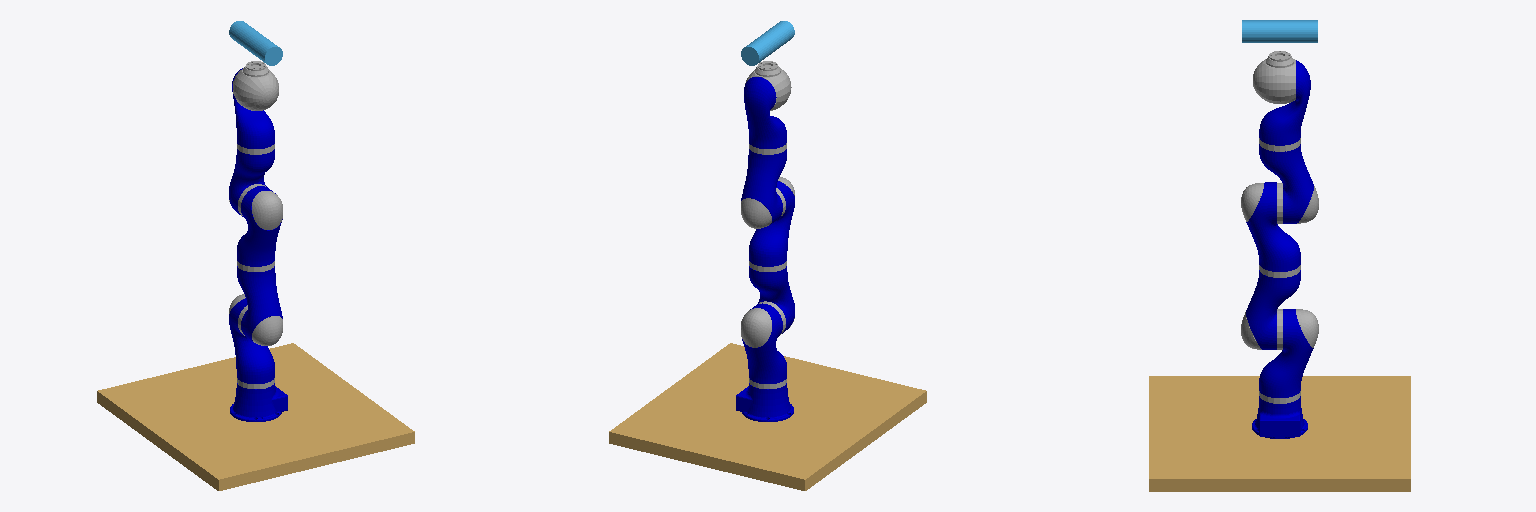
The robot description file, URDF, robot "lwr":
<?xml version="1.0" ?>
<!-- =================================================================================== -->
<!-- |    This document was autogenerated by xacro from lwr.urdf.xacro                 | -->
<!-- |    EDITING THIS FILE BY HAND IS NOT RECOMMENDED                                 | -->
<!-- =================================================================================== -->
<robot name="lwr" xmlns:controller="http://playerstage.sourceforge.net/gazebo/xmlschema/#controller" xmlns:interface="http://playerstage.sourceforge.net/gazebo/xmlschema/#interface" xmlns:sensor="http://playerstage.sourceforge.net/gazebo/xmlschema/#sensor" xmlns:xacro="http://www.ros.org/wiki/xacro">
  <gazebo>
    <plugin filename="librtt_gazebo_plugin.so" name="rtt_gazebo">
      <opsScript>
        import(&quot;rtt_ros&quot;);
        ros.import(&quot;rtt_roscomm&quot;);
        ros.import(&quot;rtt_rosparam&quot;);
        ros.import(&quot;rtt_sensor_msgs&quot;);
        ros.import(&quot;lwr_simulation&quot;);
        ros.import(&quot;oro_joint_state_publisher&quot;);
        
        loadComponent(&quot;FRI&quot;,&quot;LWRController&quot;);
        loadComponent(&quot;joints&quot;,&quot;JointStatePublisher&quot;);
        
        loadService(&quot;FRI&quot;,&quot;rosparam&quot;);
        loadService(&quot;joints&quot;,&quot;rosparam&quot;);
        
        setActivity(&quot;FRI&quot;, 0.0, 5, ORO_SCHED_RT);
        setActivity(&quot;joints&quot;, 0.02, 5, ORO_SCHED_RT);
        
        connect(&quot;FRI.JointPosition&quot;,&quot;joints.msrJntPos&quot;, ConnPolicy());
        stream(&quot;joints.joints_state&quot;, rostopic.connection(&quot;/joints_state&quot;));
        
        joints.rosparam.refreshProperties();
        joints.configure();
        joints.start();
      </opsScript>
      <component>FRI</component>
    </plugin>
  </gazebo>
  <material name="DarkGrey">
    <color rgba="0.3 0.3 0.3 1.0"/>
  </material>
  <material name="Red">
    <color rgba="0.3 0.3 0.3 1.0"/>
  </material>
  <material name="Black">
    <color rgba="0 0 0 1.0"/>
  </material>
  <material name="Orange">
    <color rgba="1.0 0.487 0 1.0"/>
  </material>
  <material name="Silver">
    <color rgba="1.0 1.0 1.0 1.0"/>
  </material>
  <material name="Grey">
    <color rgba="0.7 0.7 0.7 1.0"/>
  </material>
  <material name="Blue">
    <color rgba="0.0 0.0 0.8 1.0"/>
  </material>
  <material name="HandGray">
    <color rgba="0.953 0.996 0.694 1.0"/>
  </material>
  <material name="SickBlue">
    <color rgba="0.3058 0.5921 0.7294 1.0"/>
  </material>
  <link name="table">
    <visual>
      <origin rpy="0 0 0" xyz="0 0 -0.02"/>
      <geometry>
        <box size="0.7 0.75 0.04"/>
      </geometry>
      <material name="table_brown">
        <!-- wooden brown table -->
        <color rgba="0.839215686 0.694117647 0.42745098 1.0"/>
      </material>
    </visual>
    <collision>
      <origin rpy="0 0 0" xyz="0 0 -0.02"/>
      <geometry>
        <box size="0.7 0.75 0.04"/>
      </geometry>
    </collision>
  </link>
  <gazebo reference="table">
    <!-- Gazebo wood texture -->
    <material>Gazebo/Wood</material>
  </gazebo>
  <joint name="table_lwr_arm_base_joint" type="fixed">
    <origin rpy="0 0 0" xyz="0 0 0"/>
    <parent link="table"/>
    <child link="base"/>
  </joint>
  <link name="base">
    <inertial>
      <mass value="2.0"/>
      <origin xyz="0 0 0.055"/>
      <inertia ixx="0.00381666666667" ixy="0" ixz="0" iyy="0.0036" iyz="0" izz="0.00381666666667"/>
    </inertial>
    <visual>
      <origin rpy="0 0 3.14159265359" xyz="0 0 0"/>
      <geometry>
        <mesh filename="package://kuka_lwr4_description/meshes/kuka_colour/base.dae"/>
      </geometry>
      <material name="Blue"/>
    </visual>
    <collision>
      <origin rpy="0 0 0" xyz="0.04 0 0.03"/>
      <geometry>
        <box size="0.08 0.12 0.06"/>
      </geometry>
    </collision>
    <collision>
      <origin rpy="0 0 0" xyz="0 0 0.05"/>
      <geometry>
        <cylinder length="0.1" radius="0.06"/>
      </geometry>
    </collision>
  </link>
  <gazebo reference="calib_lwr_arm_base_link">
    <turnGravityOff>true</turnGravityOff>
  </gazebo>
  <joint name="lwr_arm_0_joint" type="revolute">
    <origin rpy="0 0 3.14159265359" xyz="0 0 0.11"/>
    <axis xyz="0 0 1"/>
    <limit effort="176" lower="-2.96705972839" upper="2.96705972839" velocity="1.91986217719"/>
    <safety_controller k_position="30" k_velocity="30" soft_lower_limit="-2.93215314335" soft_upper_limit="2.93215314335"/>
    <dynamics damping="1.0"/>
    <parent link="base"/>
    <child link="lwr_arm_1_link"/>
  </joint>
  <link name="lwr_arm_1_link">
    <inertial>
      <mass value="2.0"/>
      <origin rpy="0 0 0" xyz="0 -0.06 0.130"/>
      <inertia ixx="0.0136666666667" ixy="0" ixz="0" iyy="0.003" iyz="0" izz="0.0118666666667"/>
    </inertial>
    <visual>
      <origin rpy="0 0 4.71238898038" xyz="0 0 0.2"/>
      <geometry>
        <mesh filename="package://kuka_lwr4_description/meshes/kuka_colour/link1.dae"/>
      </geometry>
      <material name="Blue"/>
    </visual>
    <visual>
      <origin rpy="0 0 4.71238898038" xyz="0 0 0.2"/>
      <geometry>
        <mesh filename="package://kuka_lwr4_description/meshes/kuka_colour/link1_m.dae"/>
      </geometry>
      <material name="Grey"/>
    </visual>
    <visual>
      <origin rpy="0 0 0" xyz="0 0 0"/>
      <geometry>
        <mesh filename="package://kuka_lwr4_description/meshes/kuka_colour/kuka_ring.dae"/>
      </geometry>
      <material name="Grey"/>
    </visual>
    <collision>
      <origin rpy="0 0 0" xyz="0 0 0.05"/>
      <geometry>
        <cylinder length="0.1" radius="0.06"/>
      </geometry>
    </collision>
    <collision>
      <origin rpy="0 0 0" xyz="0 -0.04 0.2"/>
      <geometry>
        <sphere radius="0.06"/>
      </geometry>
    </collision>
  </link>
  <gazebo reference="lwr_arm_1_link">
    <gravity>0</gravity>
  </gazebo>
  <transmission name="lwr_arm_0_trans" type="SimpleTransmission">
    <actuator name="lwr_arm_0_motor"/>
    <joint name="lwr_arm_0_joint"/>
    <mechanicalReduction>1.0</mechanicalReduction>
  </transmission>
  <!-- Third segment of the arm. Joint along y-axis -->
  <joint name="lwr_arm_1_joint" type="revolute">
    <origin rpy="0 0 0" xyz="0 0 0.2"/>
    <axis xyz="0 1 0"/>
    <limit effort="176" lower="-2.09439510239" upper="2.09439510239" velocity="1.91986217719"/>
    <safety_controller k_position="30" k_velocity="30" soft_lower_limit="-2.05948851735" soft_upper_limit="2.05948851735"/>
    <dynamics damping="1.0" friction="10"/>
    <parent link="lwr_arm_1_link"/>
    <child link="lwr_arm_2_link"/>
  </joint>
  <link name="lwr_arm_2_link">
    <inertial>
      <mass value="2.0"/>
      <origin rpy="0 0 0" xyz="0 0.06 0.07"/>
      <inertia ixx="0.0136666666667" ixy="0" ixz="0" iyy="0.003" iyz="0" izz="0.0118666666667"/>
    </inertial>
    <visual>
      <origin rpy="0 0 4.71238898038" xyz="0 0 0"/>
      <geometry>
        <mesh filename="package://kuka_lwr4_description/meshes/kuka_colour/link2.dae"/>
      </geometry>
      <material name="Blue"/>
    </visual>
    <visual>
      <origin rpy="0 0 4.71238898038" xyz="0 0 0"/>
      <geometry>
        <mesh filename="package://kuka_lwr4_description/meshes/kuka_colour/link2_m.dae"/>
      </geometry>
      <material name="Grey"/>
    </visual>
    <visual>
      <origin rpy="1.57079632679 0 0" xyz="0 0 0"/>
      <geometry>
        <mesh filename="package://kuka_lwr4_description/meshes/kuka_colour/kuka_ring.dae"/>
      </geometry>
      <material name="Grey"/>
    </visual>
    <collision>
      <origin rpy="0 0 0" xyz="0 0 0.15"/>
      <geometry>
        <cylinder length="0.1" radius="0.06"/>
      </geometry>
    </collision>
    <collision>
      <origin rpy="0 0 0" xyz="0 0.04 0"/>
      <geometry>
        <sphere radius="0.06"/>
      </geometry>
    </collision>
  </link>
  <gazebo reference="lwr_arm_2_link">
    <gravity>0</gravity>
  </gazebo>
  <transmission name="lwr_arm_1_trans" type="SimpleTransmission">
    <actuator name="lwr_arm_1_motor"/>
    <joint name="lwr_arm_1_joint"/>
    <mechanicalReduction>1.0</mechanicalReduction>
  </transmission>
  <joint name="lwr_arm_2_joint" type="revolute">
    <origin rpy="0 0 0" xyz="0 0 0.20"/>
    <axis xyz="0 0 1"/>
    <limit effort="100" lower="-2.96705972839" upper="2.96705972839" velocity="2.26892802759"/>
    <safety_controller k_position="30" k_velocity="30" soft_lower_limit="-2.93215314335" soft_upper_limit="2.93215314335"/>
    <dynamics damping="1.0"/>
    <parent link="lwr_arm_2_link"/>
    <child link="lwr_arm_3_link"/>
  </joint>
  <link name="lwr_arm_3_link">
    <inertial>
      <mass value="2.0"/>
      <origin rpy="0 0 0" xyz="0 0.06 0.130"/>
      <inertia ixx="0.0136666666667" ixy="0" ixz="0" iyy="0.003" iyz="0" izz="0.0118666666667"/>
    </inertial>
    <visual>
      <origin rpy="0 0 4.71238898038" xyz="0 0 0.2"/>
      <geometry>
        <mesh filename="package://kuka_lwr4_description/meshes/kuka_colour/link3.dae"/>
      </geometry>
      <material name="Blue"/>
    </visual>
    <visual>
      <origin rpy="0 0 4.71238898038" xyz="0 0 0.2"/>
      <geometry>
        <mesh filename="package://kuka_lwr4_description/meshes/kuka_colour/link3_m.dae"/>
      </geometry>
      <material name="Grey"/>
    </visual>
    <visual>
      <origin rpy="0 0 0" xyz="0 0 0"/>
      <geometry>
        <mesh filename="package://kuka_lwr4_description/meshes/kuka_colour/kuka_ring.dae"/>
      </geometry>
      <material name="Grey"/>
    </visual>
    <collision>
      <origin rpy="0 0 0" xyz="0 0 0.05"/>
      <geometry>
        <cylinder length="0.1" radius="0.06"/>
      </geometry>
    </collision>
    <collision>
      <origin rpy="0 0 0" xyz="0 0.04 0.2"/>
      <geometry>
        <sphere radius="0.06"/>
      </geometry>
    </collision>
  </link>
  <gazebo reference="lwr_arm_3_link">
    <turnGravityOff>true</turnGravityOff>
  </gazebo>
  <transmission name="lwr_arm_2_trans" type="SimpleTransmission">
    <actuator name="lwr_arm_2_motor"/>
    <joint name="lwr_arm_2_joint"/>
    <mechanicalReduction>1.0</mechanicalReduction>
  </transmission>
  <!-- fifth element of the arm. x-axis -->
  <joint name="lwr_arm_3_joint" type="revolute">
    <origin rpy="0 0 0" xyz="0 0 0.20"/>
    <axis xyz="0 -1 0"/>
    <limit effort="100" lower="-2.09439510239" upper="2.09439510239" velocity="2.26892802759"/>
    <safety_controller k_position="30" k_velocity="30" soft_lower_limit="-2.05948851735" soft_upper_limit="2.05948851735"/>
    <dynamics damping="1.0"/>
    <parent link="lwr_arm_3_link"/>
    <child link="lwr_arm_4_link"/>
  </joint>
  <link name="lwr_arm_4_link">
    <inertial>
      <mass value="2.0"/>
      <origin rpy="0 0 0" xyz="0 -0.06 0.07"/>
      <inertia ixx="0.0136666666667" ixy="0" ixz="0" iyy="0.003" iyz="0" izz="0.0118666666667"/>
    </inertial>
    <visual>
      <origin rpy="0 0 4.71238898038" xyz="0 0 0"/>
      <geometry>
        <mesh filename="package://kuka_lwr4_description/meshes/kuka_colour/link4.dae"/>
      </geometry>
      <material name="Blue"/>
    </visual>
    <visual>
      <origin rpy="0 0 4.71238898038" xyz="0 0 0"/>
      <geometry>
        <mesh filename="package://kuka_lwr4_description/meshes/kuka_colour/link4_m.dae"/>
      </geometry>
      <material name="Grey"/>
    </visual>
    <visual>
      <origin rpy="1.57079632679 0 0" xyz="0 0 0"/>
      <geometry>
        <mesh filename="package://kuka_lwr4_description/meshes/kuka_colour/kuka_ring.dae"/>
      </geometry>
      <material name="Grey"/>
    </visual>
    <collision>
      <origin rpy="0 0 0" xyz="0 0 0.15"/>
      <geometry>
        <cylinder length="0.1" radius="0.06"/>
      </geometry>
    </collision>
    <collision>
      <origin rpy="0 0 0" xyz="0 -0.04 0"/>
      <geometry>
        <sphere radius="0.06"/>
      </geometry>
    </collision>
  </link>
  <gazebo reference="lwr_arm_4_link">
    <turnGravityOff>true</turnGravityOff>
  </gazebo>
  <transmission name="lwr_arm_3_trans" type="SimpleTransmission">
    <actuator name="lwr_arm_3_motor"/>
    <joint name="lwr_arm_3_joint"/>
    <mechanicalReduction>1.0</mechanicalReduction>
  </transmission>
  <joint name="lwr_arm_4_joint" type="revolute">
    <origin rpy="0 0 0" xyz="0 0 0.20"/>
    <axis xyz="0 0 1"/>
    <limit effort="100" lower="-2.96705972839" upper="2.96705972839" velocity="2.26892802759"/>
    <safety_controller k_position="30" k_velocity="30" soft_lower_limit="-2.93215314335" soft_upper_limit="2.93215314335"/>
    <dynamics damping="1.0"/>
    <parent link="lwr_arm_4_link"/>
    <child link="lwr_arm_5_link"/>
  </joint>
  <link name="lwr_arm_5_link">
    <inertial>
      <mass value="2.0"/>
      <origin rpy="0 0 0" xyz="0 0 0.124"/>
      <inertia ixx="0.0126506666667" ixy="0" ixz="0" iyy="0.003" iyz="0" izz="0.0108506666667"/>
    </inertial>
    <visual>
      <origin rpy="0 0 4.71238898038" xyz="0 0 0.19"/>
      <geometry name="lwr_arm_5_geom">
        <mesh filename="package://kuka_lwr4_description/meshes/kuka_colour/link5.dae"/>
      </geometry>
      <material name="Blue"/>
    </visual>
    <visual>
      <origin rpy="0 0 0" xyz="0 0 0"/>
      <geometry>
        <mesh filename="package://kuka_lwr4_description/meshes/kuka_colour/kuka_ring.dae"/>
      </geometry>
      <material name="Grey"/>
    </visual>
    <collision>
      <origin rpy="0 0 0" xyz="0 0 0.05"/>
      <geometry>
        <cylinder length="0.1" radius="0.06"/>
      </geometry>
    </collision>
    <collision>
      <origin rpy="0 0 0" xyz="0 -0.04 0.2"/>
      <geometry>
        <sphere radius="0.06"/>
      </geometry>
    </collision>
  </link>
  <gazebo reference="lwr_arm_5_link">
    <turnGravityOff>true</turnGravityOff>
  </gazebo>
  <transmission name="lwr_arm_4_trans" type="SimpleTransmission">
    <actuator name="lwr_arm_4_motor"/>
    <joint name="lwr_arm_4_joint"/>
    <mechanicalReduction>1.0</mechanicalReduction>
  </transmission>
  <joint name="lwr_arm_5_joint" type="revolute">
    <origin rpy="0 0 0" xyz="0 0 0.19"/>
    <axis xyz="0 1 0"/>
    <limit effort="38" lower="-2.09439510239" upper="2.09439510239" velocity="3.14159265359"/>
    <safety_controller k_position="30" k_velocity="30" soft_lower_limit="-2.05948851735" soft_upper_limit="2.05948851735"/>
    <dynamics damping="1.0"/>
    <parent link="lwr_arm_5_link"/>
    <child link="lwr_arm_6_link"/>
  </joint>
  <link name="lwr_arm_6_link">
    <inertial>
      <mass value="0.2"/>
      <origin rpy="0 0 0" xyz="0 0 0.0625"/>
      <inertia ixx="0.000520833333333" ixy="0" ixz="0" iyy="0.000520833333333" iyz="0" izz="0.000520833333333"/>
    </inertial>
    <visual>
      <origin rpy="0 0 3.14159265359" xyz="0 0 0"/>
      <geometry>
        <mesh filename="package://kuka_lwr4_description/meshes/kuka_colour/kuka_wrist.dae"/>
      </geometry>
      <material name="Grey"/>
    </visual>
    <collision>
      <origin rpy="0 0 0" xyz="0 0.01 0"/>
      <geometry>
        <sphere radius="0.07"/>
      </geometry>
      <material name="Grey"/>
    </collision>
    <collision>
      <origin rpy="0 0 0" xyz="0 -0.01 0"/>
      <geometry>
        <sphere radius="0.07"/>
      </geometry>
    </collision>
  </link>
  <gazebo reference="lwr_arm_6_link">
    <turnGravityOff>true</turnGravityOff>
  </gazebo>
  <transmission name="lwr_arm_5_trans" type="SimpleTransmission">
    <actuator name="lwr_arm_5_motor"/>
    <joint name="lwr_arm_5_joint"/>
    <mechanicalReduction>1.0</mechanicalReduction>
  </transmission>
  <joint name="lwr_arm_6_joint" type="revolute">
    <origin rpy="0 0 3.14159265359" xyz="0 0 0.078"/>
    <axis xyz="0 0 1"/>
    <limit effort="38" lower="-2.96705972839" upper="2.96705972839" velocity="3.14159265359"/>
    <safety_controller k_position="30" k_velocity="30" soft_lower_limit="-2.93215314335" soft_upper_limit="2.93215314335"/>
    <dynamics damping="1.0"/>
    <parent link="lwr_arm_6_link"/>
    <child link="lwr_arm_7_link"/>
  </joint>
  <link name="lwr_arm_7_link">
    <inertial>
      <mass value="0.2"/>
      <origin xyz="0 0 0"/>
      <inertia ixx="0.0333333333333" ixy="0" ixz="0" iyy="0.0333333333333" iyz="0" izz="0.0333333333333"/>
    </inertial>
    <visual>
      <origin rpy="0 0 0" xyz="0 0 0"/>
      <geometry>
        <mesh filename="package://kuka_lwr4_description/meshes/kuka_colour/link7.dae"/>
      </geometry>
      <material name="Grey"/>
    </visual>
    <collision>
      <origin rpy="0 0 -0.785398163397" xyz="0 0 0"/>
      <geometry>
        <cylinder length="0.05" radius="0.04"/>
      </geometry>
    </collision>
  </link>
  <joint name="lwr_arm_7_joint" type="fixed">
    <origin rpy="1.570796326795 0 0" xyz="0 0 0"/>
    <parent link="lwr_arm_7_link"/>
    <child link="attached_weight"/>
  </joint>
  <link name="attached_weight">
    <inertial>
      <mass value="5.0"/>
      <origin xyz="0 0 0"/>
      <inertia ixx="0.021487" ixy="0" ixz="0" iyy="0.021487" iyz="0" izz="0.00264063"/>
    </inertial>
    <visual>
      <origin rpy="0 0 0" xyz="0 0.075 0"/>
      <geometry>
        <cylinder length="0.22" radius="0.0325"/>
      </geometry>
    </visual>
    <collision>
      <origin rpy="0 0 0" xyz="0 0.075 0"/>
      <geometry>
        <cylinder length="0.22" radius="0.0325"/>
      </geometry>
    </collision>
  </link>
  <gazebo reference="lwr_arm_7_link">
    <turnGravityOff>true</turnGravityOff>
  </gazebo>
  <transmission name="lwr_arm_6_trans" type="SimpleTransmission">
    <actuator name="lwr_arm_6_motor"/>
    <joint name="lwr_arm_6_joint"/>
    <mechanicalReduction>1.0</mechanicalReduction>
  </transmission>
</robot>

--- What the picture shows (computed from the rendered views, not written in the file) ---
Views: 3 orthographic renders of the robot side by side, from view 1: azimuth 30°, elevation 25°; view 2: azimuth 150°, elevation 25°; view 3: azimuth 270°, elevation 25°.
Robot: lwr — 10 links, 9 joints (7 revolute, 2 fixed); root link table; default pose: every joint at zero.
Visible links, largest first — view 1: table, lwr_arm_3_link, lwr_arm_2_link, lwr_arm_1_link, base, lwr_arm_5_link, lwr_arm_4_link, lwr_arm_6_link, attached_weight; view 2: table, lwr_arm_1_link, lwr_arm_4_link, lwr_arm_5_link, lwr_arm_3_link, base, lwr_arm_2_link, attached_weight, lwr_arm_6_link; view 3: table, lwr_arm_3_link, lwr_arm_1_link, lwr_arm_2_link, lwr_arm_4_link, lwr_arm_5_link, attached_weight, base, lwr_arm_6_link.
Link boxes in pixels (x1,y1,x2,y2): table: (97,343,414,490); lwr_arm_3_link: (237,186,282,271); lwr_arm_2_link: (237,266,282,345); lwr_arm_1_link: (229,294,274,388); base: (230,383,287,421); lwr_arm_5_link: (232,68,274,154); lwr_arm_4_link: (229,149,274,216); lwr_arm_6_link: (233,68,278,110); attached_weight: (229,21,282,65); table: (609,343,926,490); lwr_arm_1_link: (741,303,786,388); lwr_arm_4_link: (741,149,786,228); lwr_arm_5_link: (744,77,786,154); lwr_arm_3_link: (749,177,794,271); base: (736,383,793,421); lwr_arm_2_link: (749,266,794,334); attached_weight: (741,21,794,65); lwr_arm_6_link: (745,68,791,110); table: (1149,376,1410,491); lwr_arm_3_link: (1241,182,1300,277); lwr_arm_1_link: (1259,309,1318,403); lwr_arm_2_link: (1241,270,1300,349); lwr_arm_4_link: (1259,144,1318,223); lwr_arm_5_link: (1259,60,1310,151); attached_weight: (1242,20,1317,42); base: (1252,396,1307,438); lwr_arm_6_link: (1253,59,1295,103).
Size in the robot's own frame: 0.7 by 0.75 by 1.33 metres.
17 mesh visuals loaded from 13 distinct referenced files (13 Collada DAE).